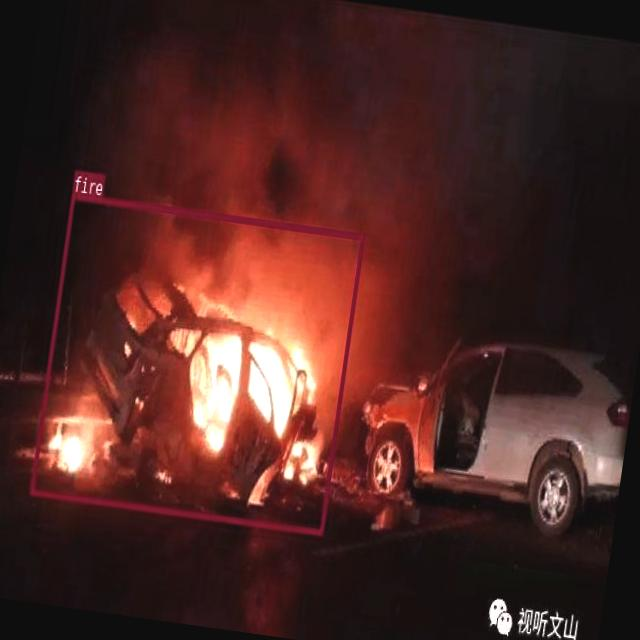fire: (29, 192, 364, 535)
